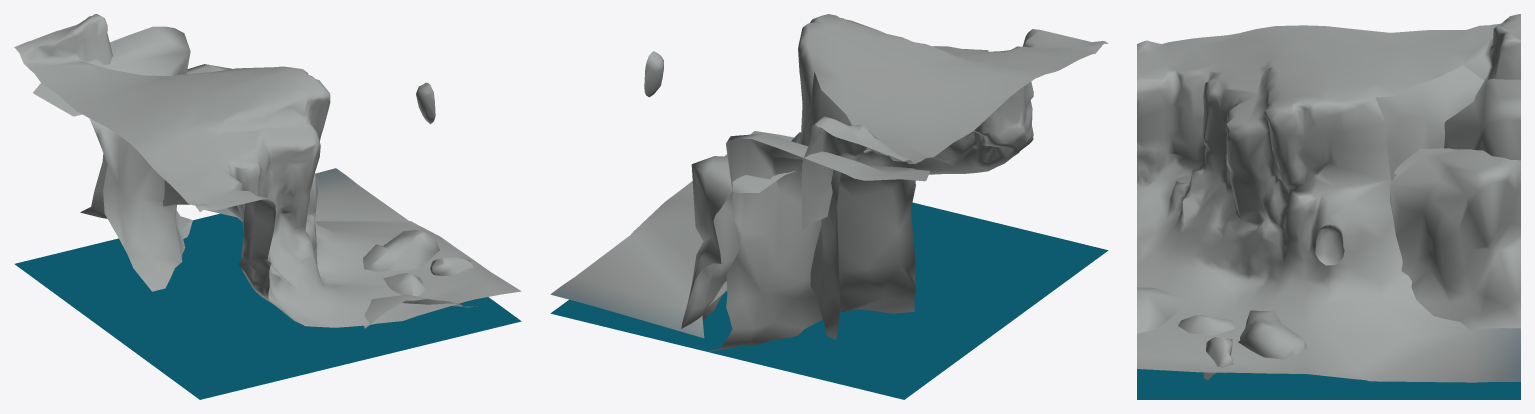
3 renders of one model, left to right at view 1: azimuth 30°, elevation 25°; view 2: azimuth 150°, elevation 25°; view 3: azimuth 270°, elevation 25°, orthographic. The views are drawn at different scales.
Parts seen in each view (by area): view 1: G:\FFXIV-MapTools\exports\s1f3\bg\ffxiv\sea_s1\fld\s1f3\bgpl (×13); view 2: G:\FFXIV-MapTools\exports\s1f3\bg\ffxiv\sea_s1\fld\s1f3\bgpl (×11); view 3: G:\FFXIV-MapTools\exports\s1f3\bg\ffxiv\sea_s1\fld\s1f3\bgpl (×15).
Part boxes in pixels (bbox=[...]): G:\FFXIV-MapTools\exports\s1f3\bg\ffxiv\sea_s1\fld\s1f3\bgpl (×13): bbox=[14, 14, 521, 399]; G:\FFXIV-MapTools\exports\s1f3\bg\ffxiv\sea_s1\fld\s1f3\bgpl (×11): bbox=[550, 14, 1108, 399]; G:\FFXIV-MapTools\exports\s1f3\bg\ffxiv\sea_s1\fld\s1f3\bgpl (×15): bbox=[1137, 14, 1520, 399].
Bounding box in the file's own units: 128 × 92.56 × 128.
